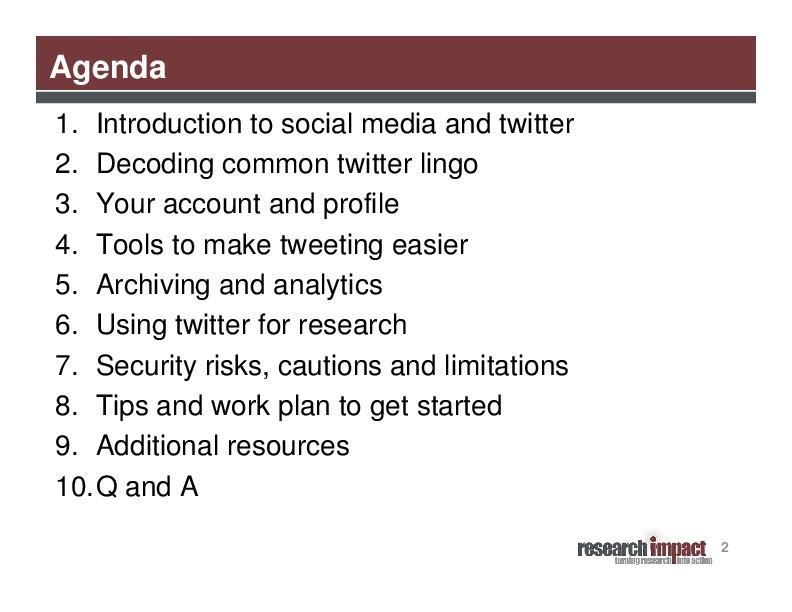paragraph: (43, 99, 626, 510)
subtitle: (550, 530, 750, 579)
title: (44, 42, 182, 89)
